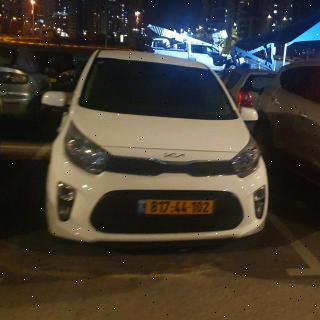LicensePlate: (148, 201, 214, 214)
